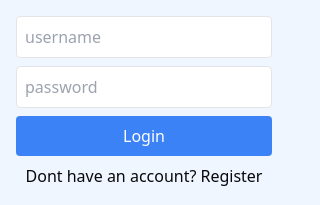
RegisterAndLoginForm Component › switches back to login form from register
The image size is (320, 205).
Click the button "Register". click: (231, 176)
box: x1=200 y1=164 x2=262 y2=188
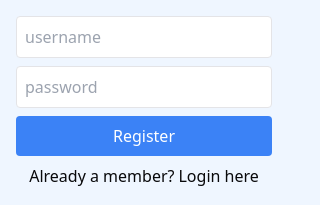
Click the button "Login here". click: (219, 176)
box: x1=178 y1=164 x2=259 y2=188
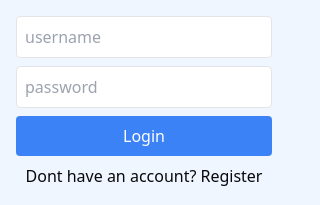
Expected: the button "Login" is shown, x1=16 y1=116 x2=272 y2=156
Expected: the text "Dont have an account?" is shown, x1=26 y1=165 x2=196 y2=187
